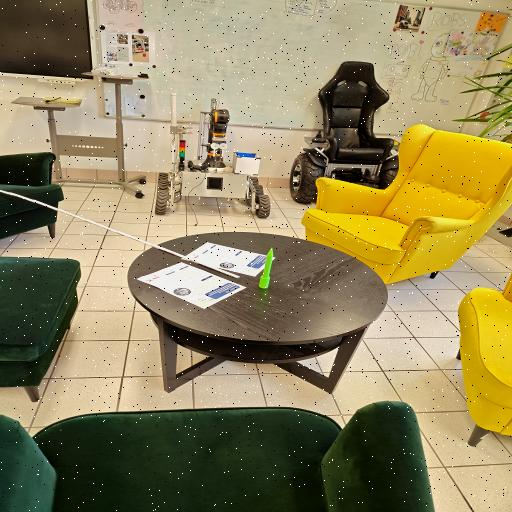Probe-Detection: (259, 248, 273, 288)
